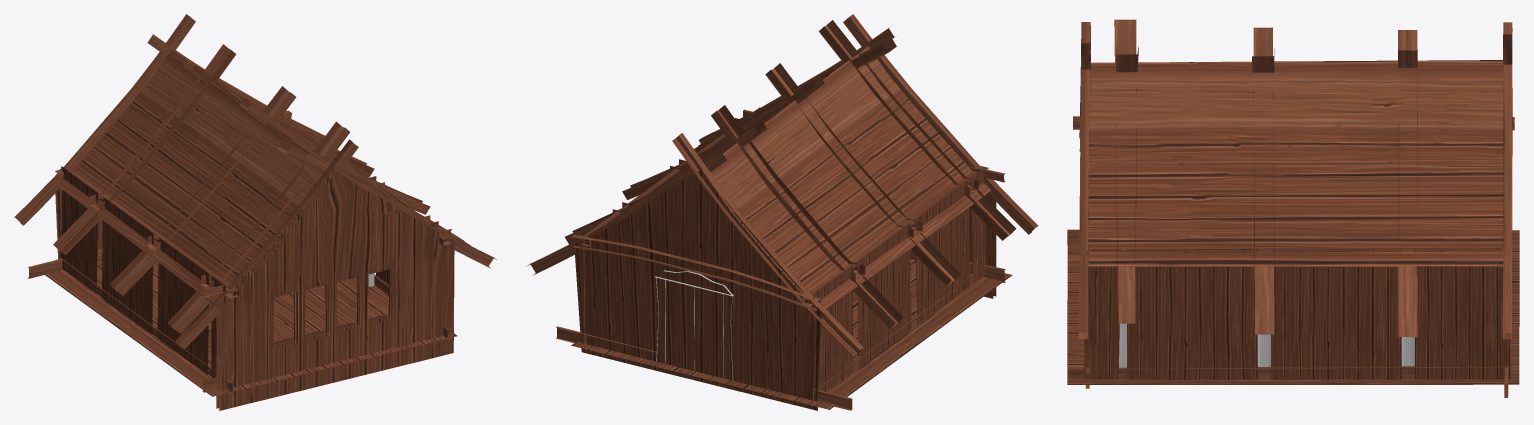
File: Cabin_V03_01.FBX
The picture shows the model from 3 angles, left to right: view 1: azimuth 30°, elevation 25°; view 2: azimuth 150°, elevation 25°; view 3: azimuth 270°, elevation 25°; orthographic projection. The views are drawn at different scales.
Parts seen in each view (by area): view 1: House_Lobby, Facade_Shadow; view 2: House_Lobby; view 3: House_Lobby, Column01.
Part boxes in pixels (x1,y1,x2,y2): House_Lobby: [14, 14, 496, 408]; Facade_Shadow: [219, 171, 454, 410]; House_Lobby: [527, 14, 1038, 410]; House_Lobby: [1067, 19, 1519, 397]; Column01: [1119, 323, 1414, 367].
Size of the model in its own units: 317366 by 299754 by 229824.
